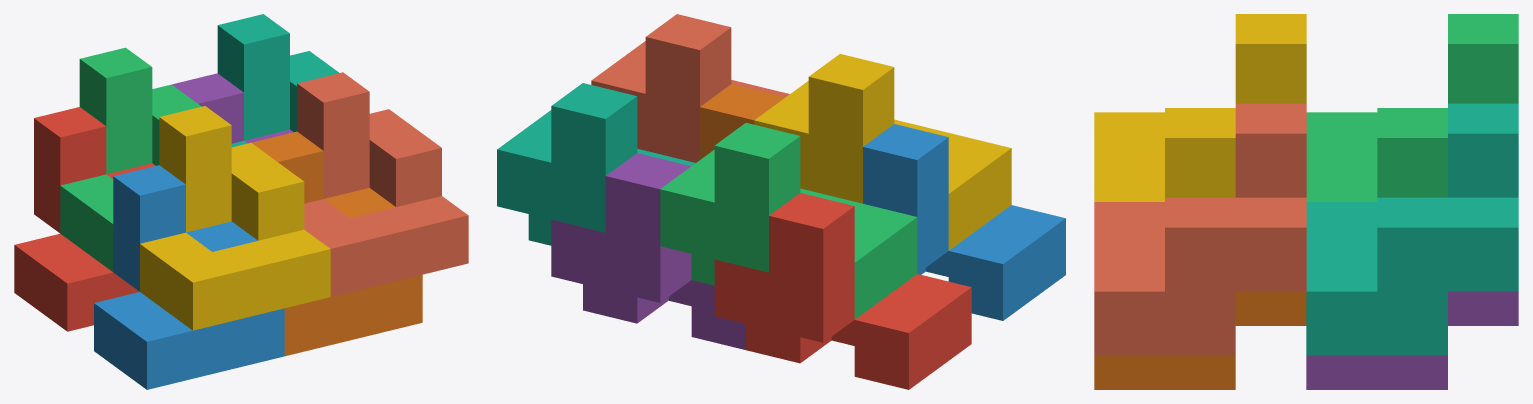
The model's file is tiling.obj.
3 renders of one model, left to right at view 1: azimuth 30°, elevation 25°; view 2: azimuth 150°, elevation 25°; view 3: azimuth 270°, elevation 25°, orthographic. The views are drawn at different scales.
Visible parts, largest first — view 1: copy_1_domain_4, copy_1_domain_8, copy_1_domain_2, copy_1_domain_1, copy_1_domain_3, copy_1_domain_6, copy_1_domain_7, copy_1_domain_5; view 2: copy_1_domain_1, copy_1_domain_3, copy_1_domain_2, copy_1_domain_4, copy_1_domain_5, copy_1_domain_7, copy_1_domain_8, copy_1_domain_6; view 3: copy_1_domain_8, copy_1_domain_7, copy_1_domain_4, copy_1_domain_3, copy_1_domain_6, copy_1_domain_5.
Part boxes in pixels (left/top/right/bottom): copy_1_domain_4: left=140, top=106, right=330, bottom=330; copy_1_domain_8: left=297, top=72, right=468, bottom=296; copy_1_domain_2: left=94, top=165, right=284, bottom=389; copy_1_domain_1: left=14, top=107, right=155, bottom=331; copy_1_domain_3: left=60, top=47, right=201, bottom=271; copy_1_domain_6: left=251, top=131, right=422, bottom=356; copy_1_domain_7: left=217, top=14, right=338, bottom=147; copy_1_domain_5: left=172, top=73, right=293, bottom=143; copy_1_domain_1: left=714, top=193, right=971, bottom=389; copy_1_domain_3: left=660, top=123, right=917, bottom=319; copy_1_domain_2: left=863, top=124, right=1065, bottom=320; copy_1_domain_4: left=754, top=54, right=1011, bottom=250; copy_1_domain_5: left=551, top=153, right=745, bottom=349; copy_1_domain_7: left=497, top=83, right=695, bottom=245; copy_1_domain_8: left=591, top=14, right=789, bottom=162; copy_1_domain_6: left=700, top=84, right=785, bottom=159; copy_1_domain_8: left=1094, top=103, right=1306, bottom=355; copy_1_domain_7: left=1306, top=103, right=1518, bottom=355; copy_1_domain_4: left=1094, top=14, right=1306, bottom=201; copy_1_domain_3: left=1306, top=14, right=1518, bottom=201; copy_1_domain_6: left=1094, top=291, right=1306, bottom=389; copy_1_domain_5: left=1306, top=291, right=1518, bottom=389.
Size of the model in its own units: 7 by 4 by 6.
